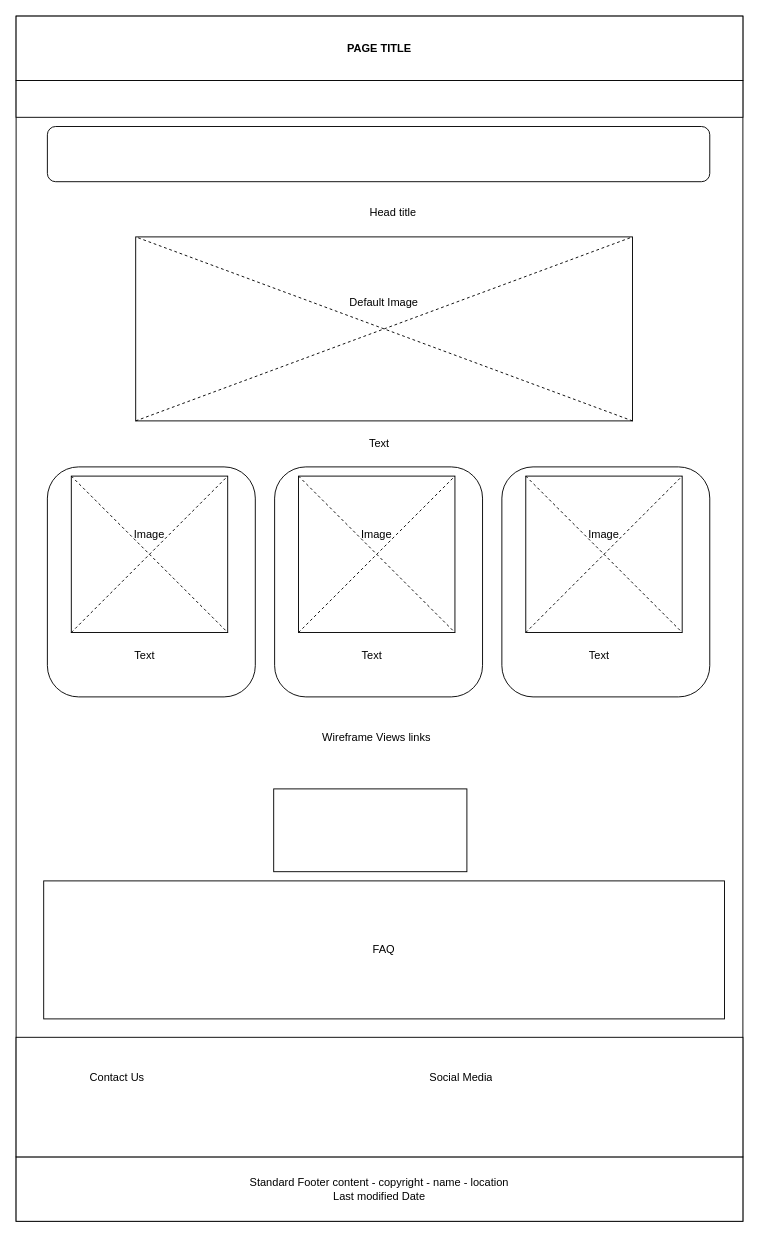
Some shapes in this 759 by 1237 pixel diagram are drawn without their labels. The shapes that lost their labels are listed below. From the top down, each one's box as (x1, y1, x2, y2) in pixels, then its label:
(15, 80, 743, 117): Navigation Menu
(46, 126, 710, 182): Purpose page
(273, 788, 467, 872): Rating Page
